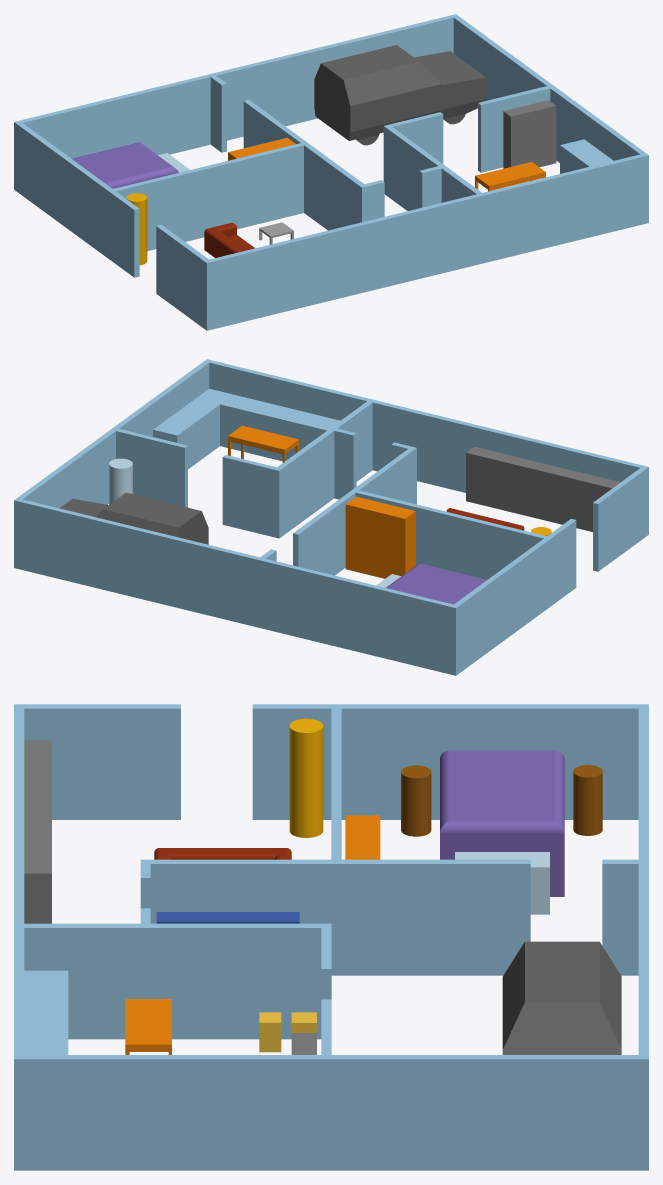
Rendered from house_interior_1.dae.
3 views of the same model, one above another, from view 1: azimuth 30°, elevation 25°; view 2: azimuth 150°, elevation 25°; view 3: azimuth 270°, elevation 25° (orthographic). The views are drawn at different scales.
Parts seen in each view (by area): view 1: Part 1, car, kitchen_cupboard, bed, kitchen_table, sofa, lounge_pillar, bedroom_cupboard; view 2: Part 1, lounge_unit, bedroom_cupboard, car, bed, kitchen_table, garage_bin; view 3: Part 1, bed, car, lounge_unit, lounge_pillar, kitchen_table, bedside_2, bedside_1, unit_end_of_bed, sideboard_corridor, sofa, bedroom_cupboard (+1 smaller).
Boxes of the visible parts, x1=… form: Part 1: x1=14, y1=14, x2=648, y2=330; car: x1=314, y1=45, x2=486, y2=145; kitchen_cupboard: x1=503, y1=100, x2=556, y2=168; bed: x1=72, y1=142, x2=178, y2=188; kitchen_table: x1=475, y1=162, x2=545, y2=191; sofa: x1=204, y1=223, x2=254, y2=257; lounge_pillar: x1=126, y1=193, x2=147, y2=265; bedroom_cupboard: x1=228, y1=137, x2=295, y2=160; Part 1: x1=14, y1=359, x2=648, y2=675; lounge_unit: x1=466, y1=446, x2=620, y2=531; bedroom_cupboard: x1=345, y1=496, x2=415, y2=578; car: x1=60, y1=492, x2=208, y2=544; bed: x1=386, y1=563, x2=487, y2=604; kitchen_table: x1=228, y1=425, x2=298, y2=462; garage_bin: x1=109, y1=458, x2=132, y2=504; Part 1: x1=14, y1=704, x2=648, y2=1170; bed: x1=440, y1=750, x2=564, y2=896; car: x1=502, y1=941, x2=621, y2=1054; lounge_unit: x1=24, y1=740, x2=51, y2=923; lounge_pillar: x1=289, y1=718, x2=323, y2=837; kitchen_table: x1=125, y1=999, x2=171, y2=1054; bedside_2: x1=401, y1=765, x2=431, y2=836; bedside_1: x1=573, y1=765, x2=602, y2=835; unit_end_of_bed: x1=455, y1=852, x2=549, y2=914; sideboard_corridor: x1=156, y1=912, x2=299, y2=923; sofa: x1=154, y1=848, x2=291, y2=859; bedroom_cupboard: x1=345, y1=815, x2=380, y2=859.
Bounding box in the file's own units: 8.2 × 6.2 × 1.2.
